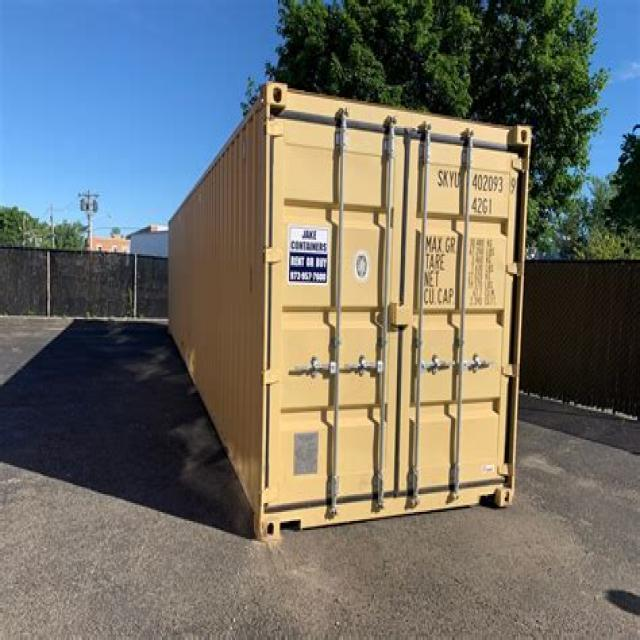ISO: (468, 196, 494, 216)
container_number: (430, 170, 520, 195)
